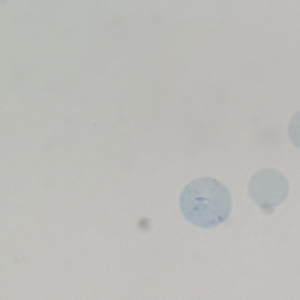erythrocyte: (245, 167, 290, 210)
punctate reticulocyte: (178, 175, 234, 230)
